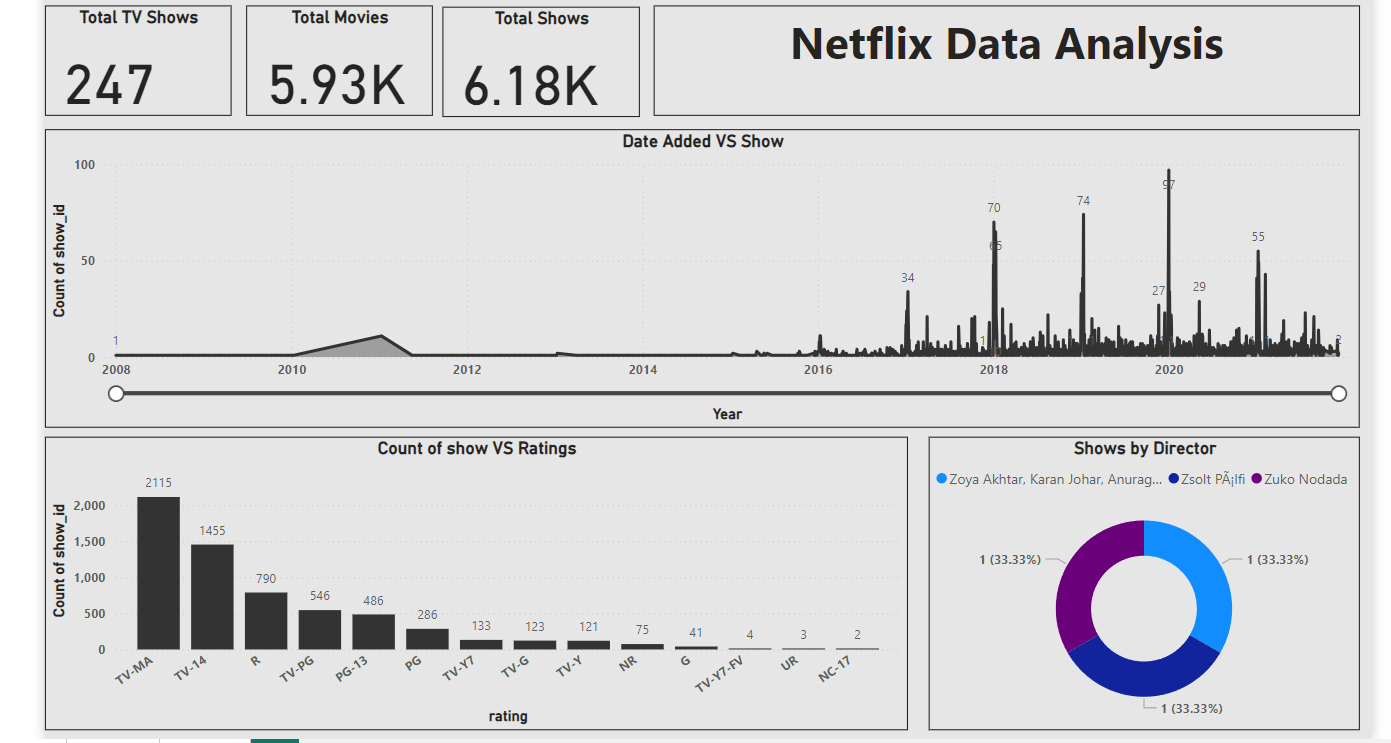

Layout of this report page (visuals, bound fields, positions):
{"tool":"powerbi","page":{"name":"Home","canvas":[1280,720],"ordinal":0},"visuals":[{"type":"textbox","box":[587.3,12.5,681.7,106.8],"z":0},{"type":"cardVisual","title":"Total Shows","fields":{"Data":["Sheet1.Total Shows"]},"box":[384,12.8,190.6,106.7],"z":1000},{"type":"lineChart","title":"Date Added VS  Show ","fields":{"Y":["CountNonNull(Sheet1.show_id)"],"Category":["Sheet1.date_added.Variation.Date Hierarchy.Year","Sheet1.date_added.Variation.Date Hierarchy.Quarter","Sheet1.date_added.Variation.Date Hierarchy.Month","Sheet1.date_added.Variation.Date Hierarchy.Day"]},"box":[0,131.7,1269,288.3],"z":2000},{"type":"donutChart","title":"Shows by Director","fields":{"Category":["Sheet1.director"],"Y":["CountNonNull(Sheet1.show_id)"]},"box":[853,428.3,416.2,283.5],"z":3000},{"type":"cardVisual","title":"Total  TV Shows","fields":{"Data":["Sheet1.Total TV Shows"]},"box":[0,12.5,179.8,106.8],"z":4000},{"type":"cardVisual","title":"Total Movies","fields":{"Data":["Sheet1.Total Movies"]},"box":[194,12.5,179.8,106.8],"z":5000},{"type":"columnChart","title":"Count of show VS Ratings","fields":{"Category":["Sheet1.rating"],"Y":["CountNonNull(Sheet1.show_id)"]},"box":[0,428.3,832.4,283.5],"z":6000}]}

Visuals, with their boxes on the page's 1280x720 design canvas (x1, y1, x2, y2). These are canvas units, not pixel positions in the 1391x743 screenshot, which may show the page scaled, cropped or inside an application window:
textbox: bbox=(587, 12, 1269, 119)
"Total Shows" cardVisual: bbox=(384, 13, 575, 120)
"Date Added VS  Show " lineChart: bbox=(0, 132, 1269, 420)
"Shows by Director" donutChart: bbox=(853, 428, 1269, 712)
"Total  TV Shows" cardVisual: bbox=(0, 12, 180, 119)
"Total Movies" cardVisual: bbox=(194, 12, 374, 119)
"Count of show VS Ratings" columnChart: bbox=(0, 428, 832, 712)
